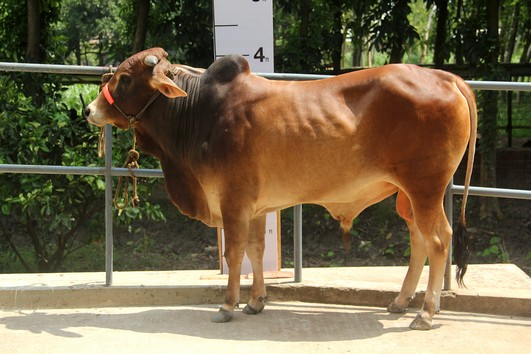cow: (80, 38, 481, 337)
